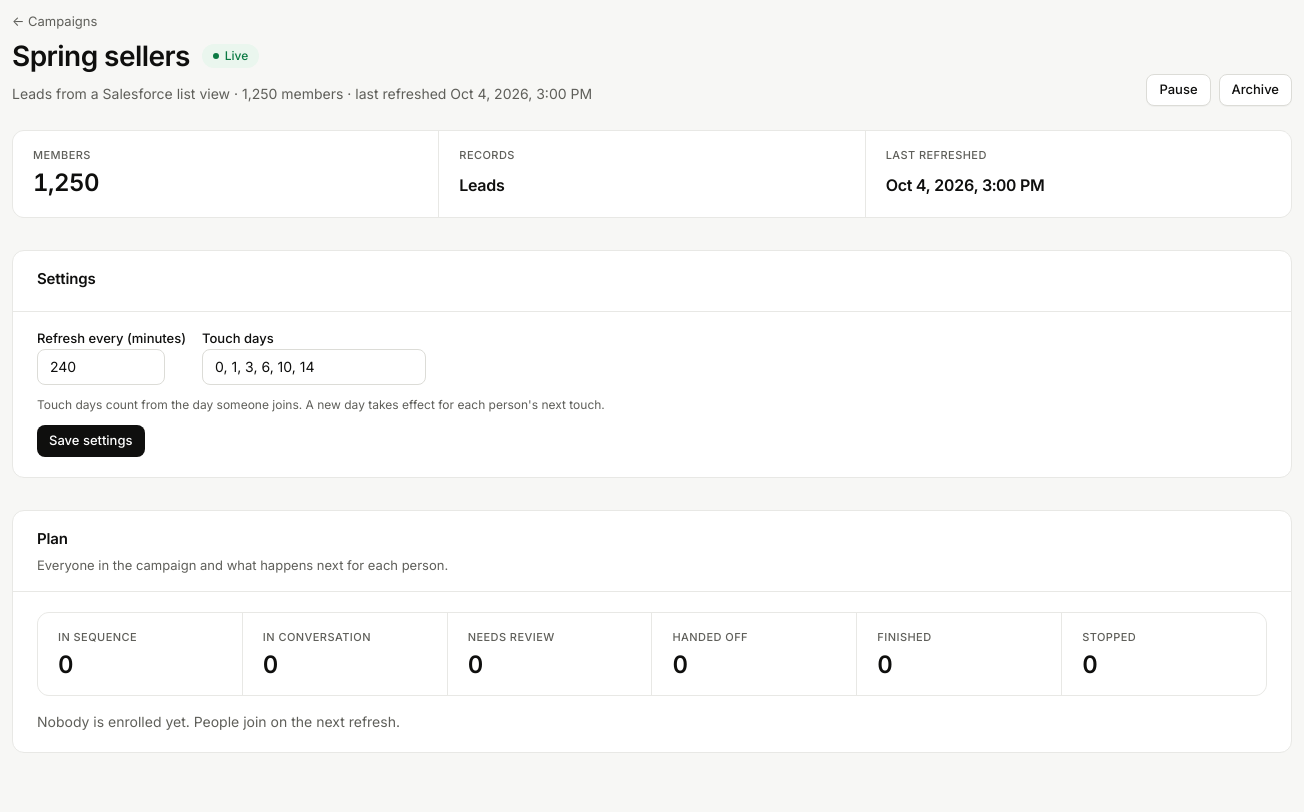
Test: CampaignDetail header › explains a rejected transition
Step 1. Click the button "Pause" → (1178, 90), box 1146,74 -> 1210,106
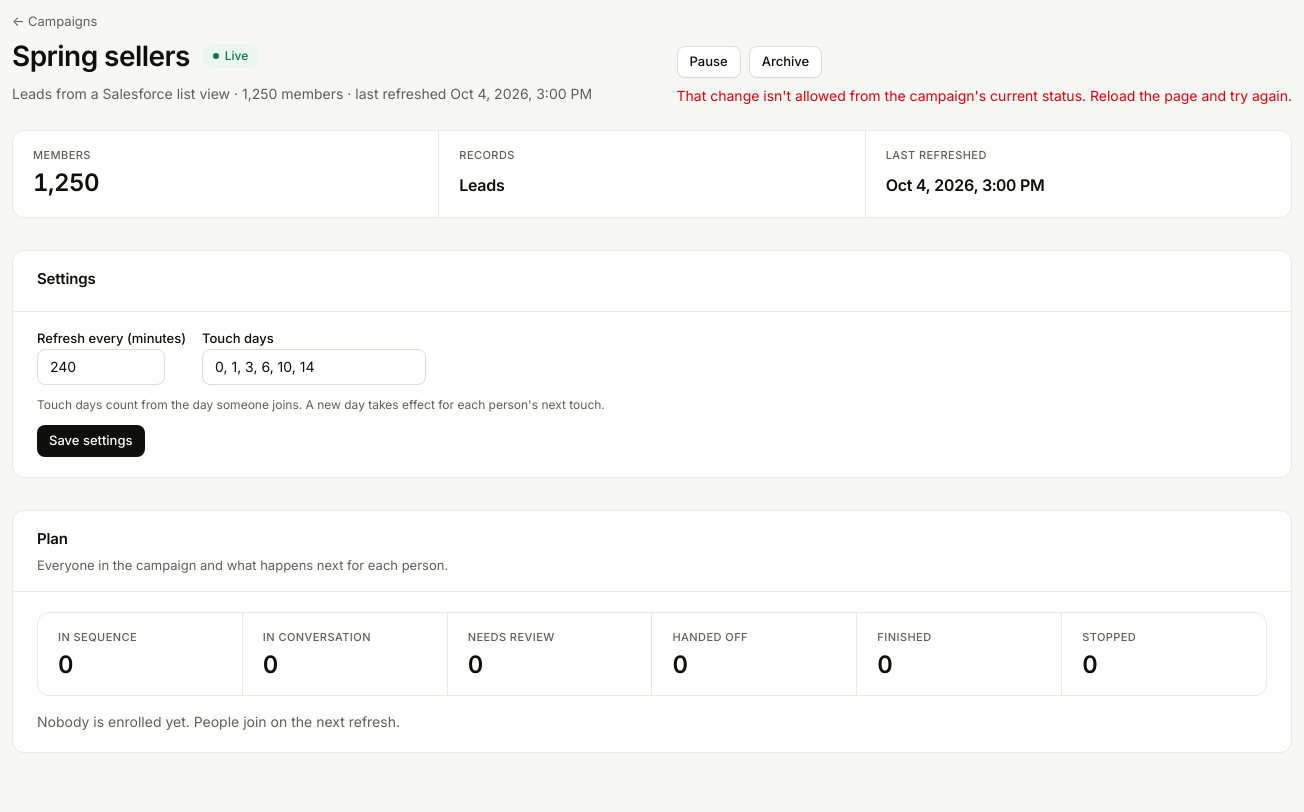
Expected: the message shows "That change isn't allowed from the campaign's current status.", 676,87 -> 1292,104
